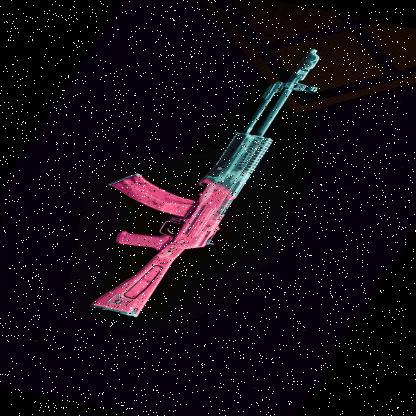rifle: (31, 23, 352, 336)
